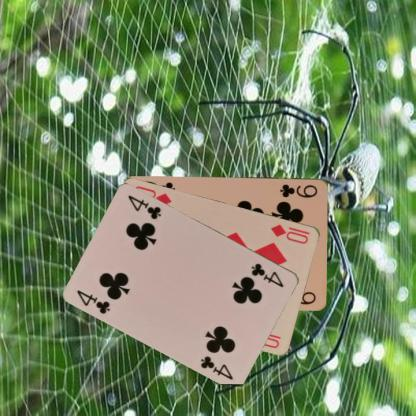10d: (268, 221, 312, 245)
4c: (249, 260, 286, 289), (75, 287, 112, 316)
9c: (277, 181, 319, 199)
